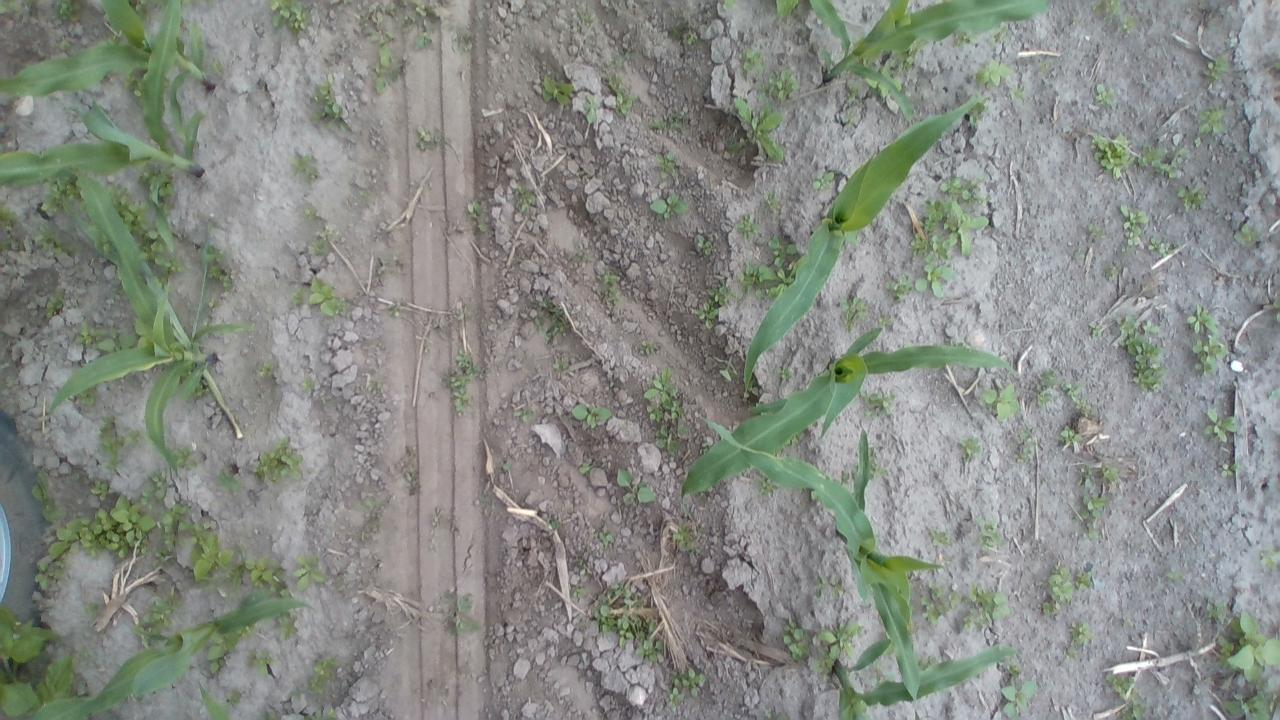Maize: (742, 90, 988, 399), (694, 413, 943, 704), (48, 172, 250, 478), (680, 328, 1020, 499), (0, 0, 207, 187), (34, 595, 316, 720), (806, 0, 1047, 121), (0, 1, 216, 132), (835, 644, 1021, 719), (197, 680, 230, 720), (772, 0, 800, 23)
Weeds: (34, 491, 188, 594), (0, 607, 79, 716), (190, 521, 282, 595), (589, 581, 665, 667), (1215, 610, 1280, 686), (909, 200, 988, 262), (644, 364, 689, 459), (1114, 315, 1167, 393), (729, 96, 783, 166), (737, 238, 794, 289), (1040, 563, 1091, 617), (98, 416, 142, 478), (594, 50, 634, 114), (442, 349, 479, 417), (138, 590, 182, 646), (1090, 131, 1134, 182), (961, 584, 1009, 630), (530, 290, 570, 345), (255, 437, 302, 482), (28, 469, 66, 522), (817, 611, 857, 660), (612, 466, 658, 508), (440, 589, 481, 636), (1138, 142, 1186, 181), (920, 582, 964, 624), (306, 78, 346, 124), (307, 276, 352, 316), (936, 172, 984, 209), (1216, 690, 1273, 720), (374, 44, 408, 94), (1107, 672, 1142, 720), (692, 286, 729, 330), (1192, 334, 1226, 380), (668, 667, 706, 708), (980, 382, 1020, 420), (1001, 676, 1037, 718), (914, 264, 956, 299), (1119, 203, 1149, 249), (267, 0, 310, 32), (762, 65, 798, 103), (41, 182, 79, 218), (308, 654, 340, 696), (857, 388, 899, 420), (138, 167, 176, 202), (1202, 406, 1236, 444), (540, 73, 576, 108), (781, 618, 810, 660), (1186, 307, 1225, 338), (294, 555, 330, 588), (0, 201, 22, 253), (649, 193, 687, 222), (737, 217, 772, 248), (840, 296, 870, 332), (571, 403, 614, 427), (287, 148, 319, 180), (974, 60, 1012, 86), (975, 517, 1006, 548), (120, 198, 150, 230), (674, 517, 700, 553), (1034, 368, 1060, 404), (210, 634, 235, 670), (32, 227, 62, 257), (1074, 493, 1106, 521), (149, 470, 179, 499), (598, 269, 620, 308), (1200, 60, 1234, 85), (1176, 185, 1206, 212), (885, 271, 911, 302), (98, 330, 138, 350), (52, 0, 84, 25), (1014, 428, 1036, 464), (1062, 380, 1088, 410), (108, 180, 134, 210), (1093, 0, 1122, 26), (248, 649, 280, 671), (142, 230, 164, 262), (816, 578, 844, 602), (1198, 109, 1223, 135), (276, 614, 300, 641), (205, 264, 232, 288), (958, 434, 982, 461), (214, 470, 240, 494), (650, 113, 681, 133), (516, 185, 538, 212), (738, 48, 765, 70), (1206, 594, 1230, 618), (74, 325, 98, 349), (1066, 620, 1092, 642), (198, 239, 224, 261), (156, 256, 186, 275), (716, 359, 738, 384), (313, 231, 334, 257), (1258, 550, 1280, 574), (1092, 84, 1116, 106), (1116, 14, 1138, 37), (415, 127, 436, 151), (43, 292, 63, 317), (761, 190, 780, 216), (1086, 216, 1105, 242), (174, 446, 196, 468), (1060, 426, 1083, 447), (698, 234, 718, 258), (582, 96, 598, 125), (1148, 236, 1170, 257), (653, 152, 677, 171), (987, 28, 1008, 49), (298, 201, 318, 222), (298, 373, 318, 394), (1084, 521, 1104, 542), (812, 171, 834, 190), (639, 340, 660, 359), (930, 529, 950, 548), (517, 404, 536, 424), (1234, 224, 1254, 243), (90, 481, 108, 502), (352, 496, 377, 511), (1078, 468, 1096, 488), (19, 0, 34, 24), (74, 390, 96, 406), (58, 38, 77, 56), (868, 464, 888, 481), (413, 34, 434, 50), (466, 200, 483, 219), (761, 479, 778, 498), (598, 524, 614, 544), (258, 362, 278, 378), (568, 244, 588, 260), (304, 708, 336, 718), (81, 604, 103, 618), (226, 689, 244, 706), (811, 661, 836, 673), (570, 584, 586, 602), (684, 30, 702, 46), (1064, 646, 1080, 664), (952, 33, 974, 46), (552, 356, 572, 370), (1104, 466, 1120, 483), (744, 362, 776, 370), (1220, 463, 1236, 479), (1164, 567, 1178, 583), (390, 302, 404, 318), (290, 291, 304, 307), (668, 26, 682, 42), (580, 14, 597, 26), (1089, 324, 1103, 338), (1104, 266, 1118, 280), (1006, 666, 1022, 678), (0, 0, 12, 16), (1010, 87, 1024, 100), (550, 514, 560, 532), (877, 315, 893, 326), (722, 0, 735, 12), (579, 465, 594, 475), (414, 5, 428, 15), (180, 0, 197, 8), (840, 470, 851, 481), (502, 462, 512, 471), (1194, 138, 1202, 148)
